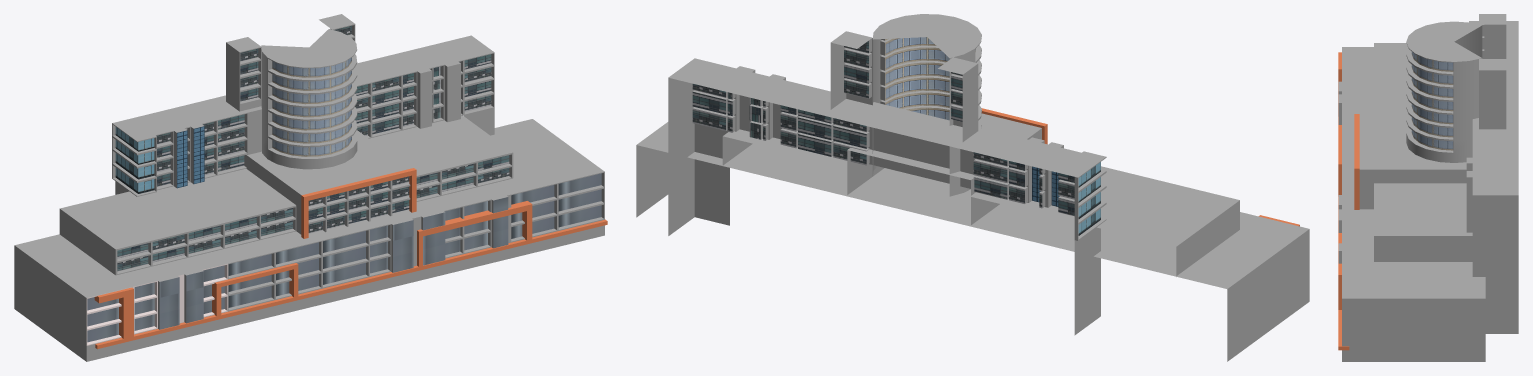
Rendered from Background_Asset_001.fbx.
3 renders of one model, left to right at view 1: azimuth 30°, elevation 25°; view 2: azimuth 150°, elevation 25°; view 3: azimuth 270°, elevation 25°, orthographic. The views are drawn at different scales.
Visible parts, largest first — view 1: Background_Asset_001; view 2: Background_Asset_001; view 3: Background_Asset_001.
Boxes of the visible parts, x1,y1,x2,y2 form: Background_Asset_001: (14, 14, 607, 361); Background_Asset_001: (636, 14, 1309, 361); Background_Asset_001: (1338, 14, 1518, 361).
Size of the model in its own units: 3402 by 1286 by 1032.
